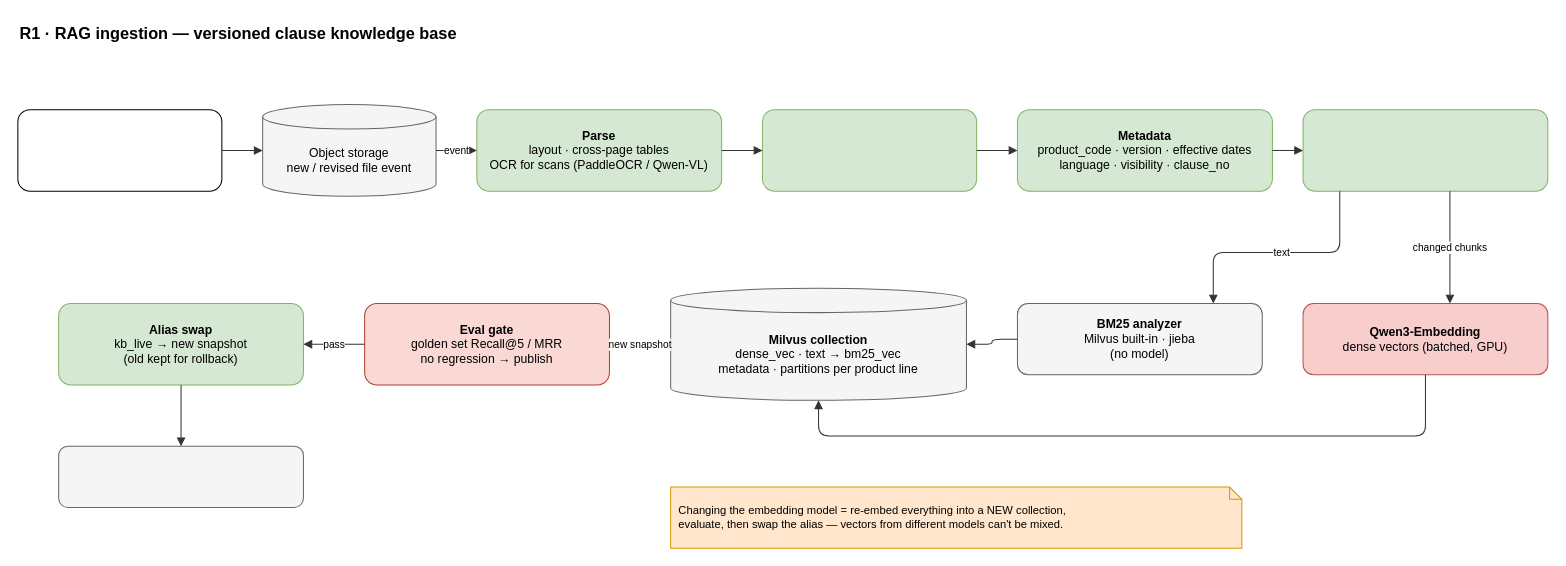
Image size: 1566x566. Some labels were removed from this diagram. The box of each missing label's shape, as (x1, y1, x2, y2) in pixels:
Chunk by clause (200–600 tokens) tables by row + header: (761, 109, 977, 191)
Content hash unchanged → skip · changed → upsert old version kept (expired): (1302, 109, 1548, 191)
Invalidate semantic cache (keys include version): (58, 445, 303, 507)
Sources product terms (PDF) · FAQ guidelines · regulatory notices: (17, 109, 222, 191)
